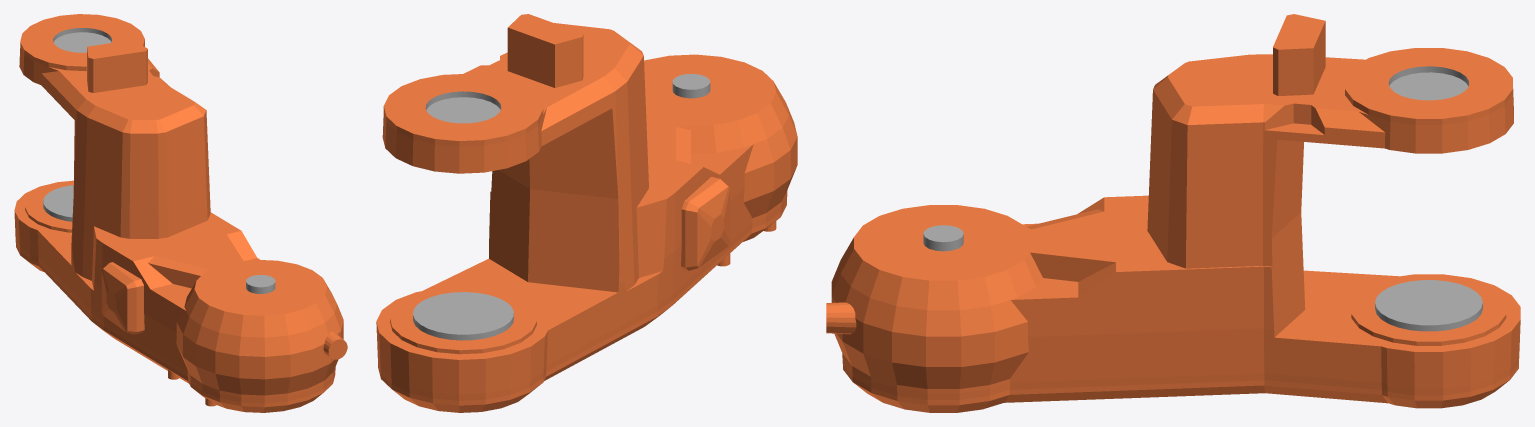
The model's file is irb140_link_2.obj.
The picture shows the model from 3 angles, left to right: view 1: azimuth 30°, elevation 25°; view 2: azimuth 150°, elevation 25°; view 3: azimuth 270°, elevation 25°; orthographic projection. The views are drawn at different scales.
Parts seen in each view (by area): view 1: Solid1; view 2: Solid1; view 3: Solid1.
Boxes of the visible parts, x1,y1,x2,y2 form: Solid1: (14,14,347,412); Solid1: (376,14,797,412); Solid1: (826,14,1520,412).
Size of the model in its own units: 182 by 273 by 515.
